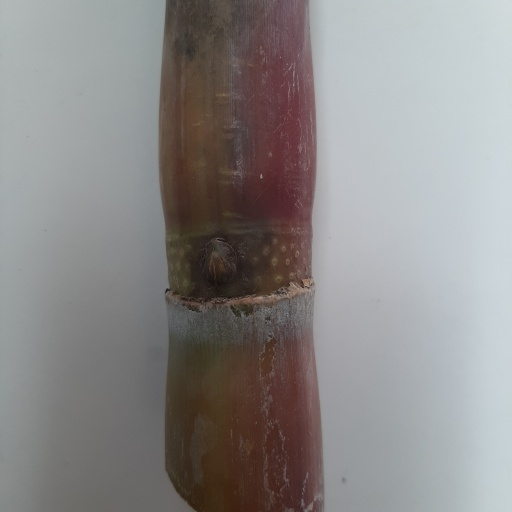Bud: (201, 238, 240, 288)
